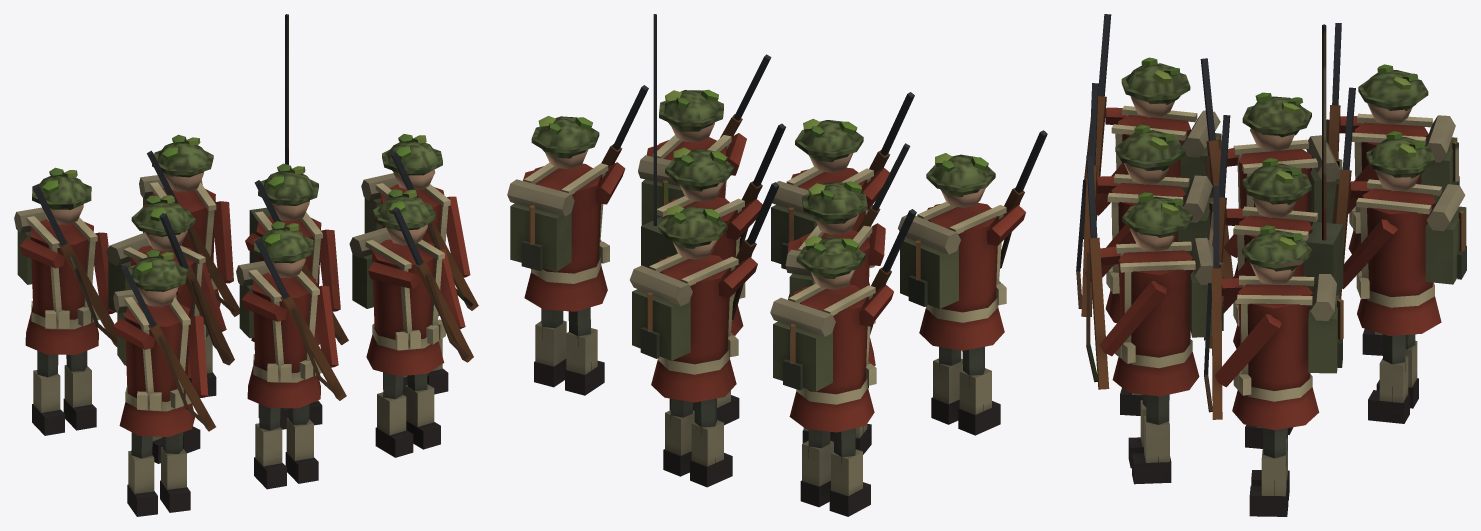
The model's file is squad_dl6_red.glb.
3 renders of one model, left to right at view 1: azimuth 30°, elevation 25°; view 2: azimuth 150°, elevation 25°; view 3: azimuth 270°, elevation 25°, orthographic. The views are drawn at different scales.
Parts seen in each view (by area): view 1: squad_dl6_red; view 2: squad_dl6_red; view 3: squad_dl6_red.
Boxes of the visible parts, <box> form: squad_dl6_red: <box>14,14,478,516</box>; squad_dl6_red: <box>507,14,1047,516</box>; squad_dl6_red: <box>1076,14,1466,516</box>.
Bounding box in the file's own units: 0.6566 × 0.589 × 0.4939.
Materials: 1 (1 with a texture image).
